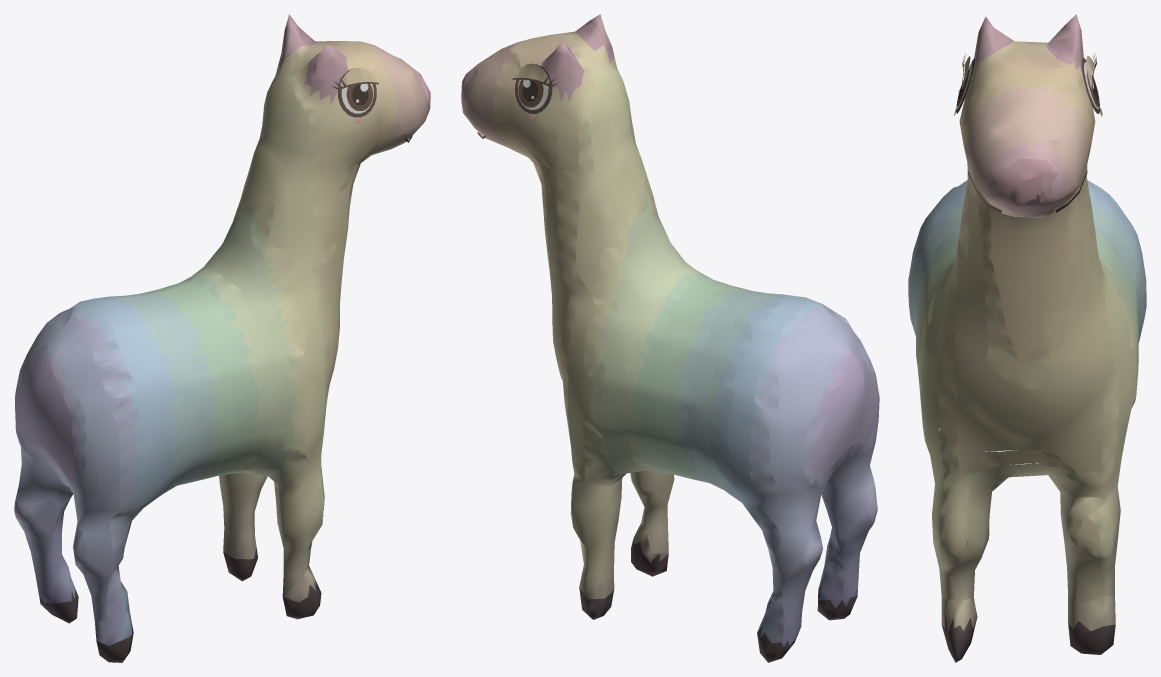
File: rainbow_llama.glb
The picture shows the model from 3 angles, left to right: view 1: azimuth 30°, elevation 25°; view 2: azimuth 150°, elevation 25°; view 3: azimuth 270°, elevation 25°; orthographic projection. The views are drawn at different scales.
Parts seen in each view (by area): view 1: rainbow_llama; view 2: rainbow_llama; view 3: rainbow_llama.
Part boxes in pixels (x1,y1,x2,y2): rainbow_llama: (14, 14, 430, 662); rainbow_llama: (461, 14, 879, 662); rainbow_llama: (908, 14, 1146, 662).
Bounding box in the file's own units: 0.9198 × 1.26 × 0.4082.
